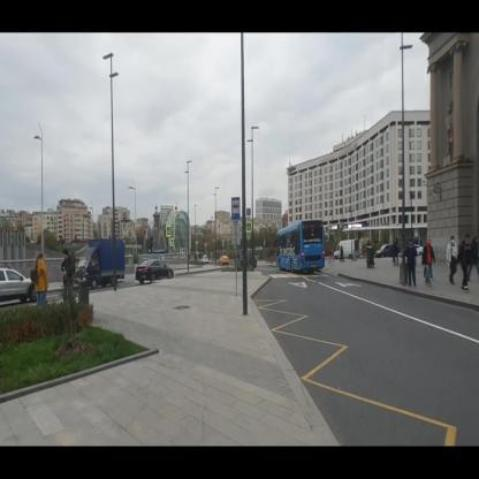bus: (275, 220, 327, 272)
